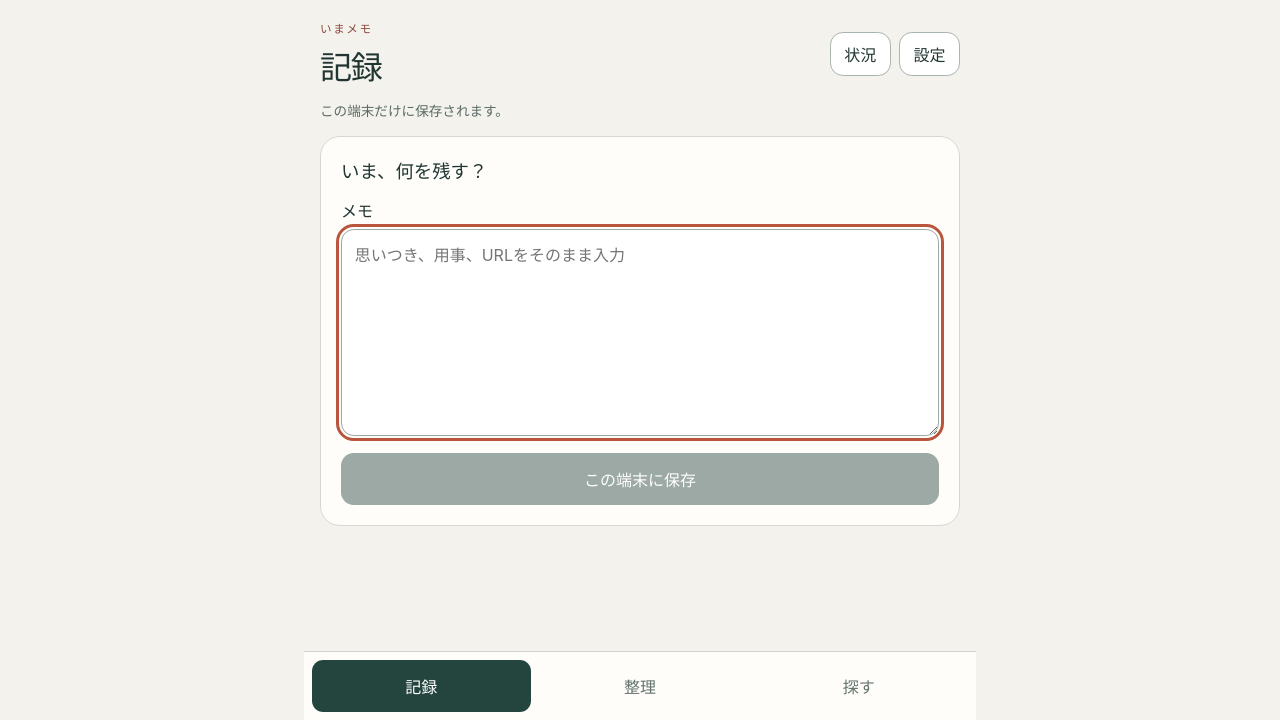
Test: App › opens settings with privacy, install, and backup guidance
The width and height of the screenshot is (1280, 720).
Click the button "設定" at (929, 54), box [899, 32, 960, 76]
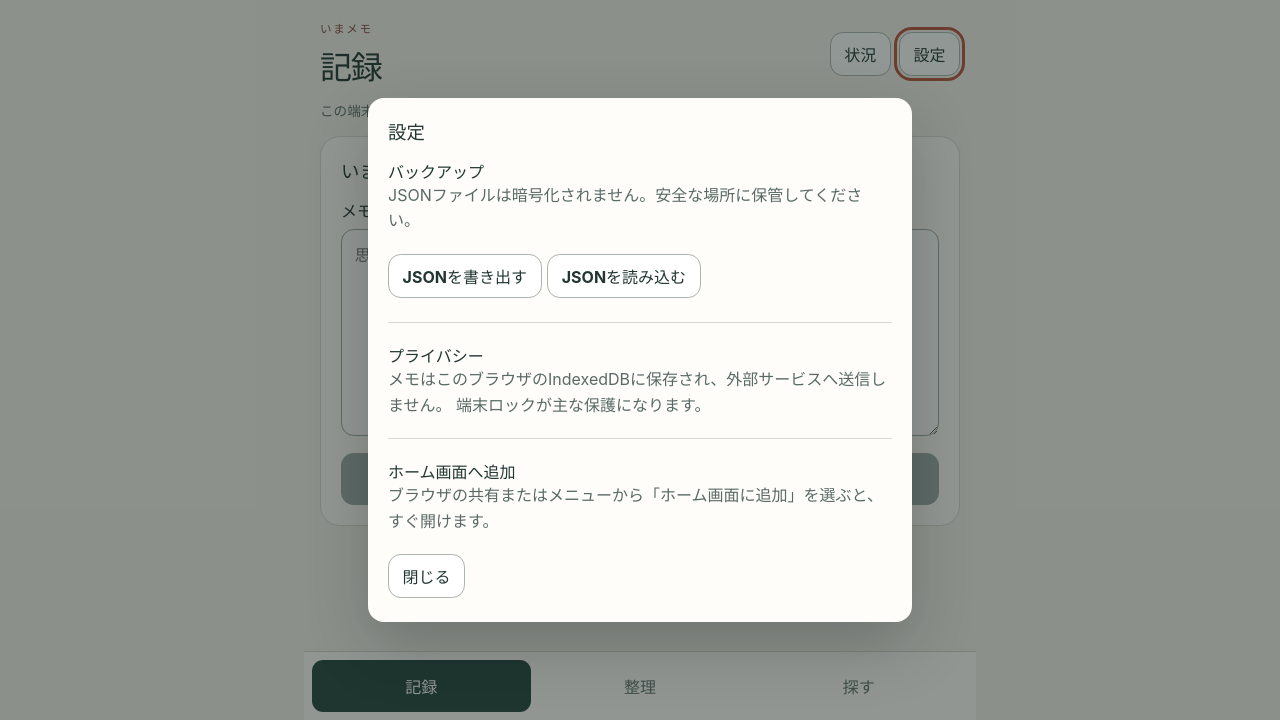
Check: the heading "プライバシー" is shown, box [388, 346, 484, 366]
Check: the heading "ホーム画面へ追加" is shown, box [388, 462, 516, 482]
Check: the text "JSONファイルは暗号化されません。安全な場所に保管してください。" is shown, box [388, 183, 892, 234]
